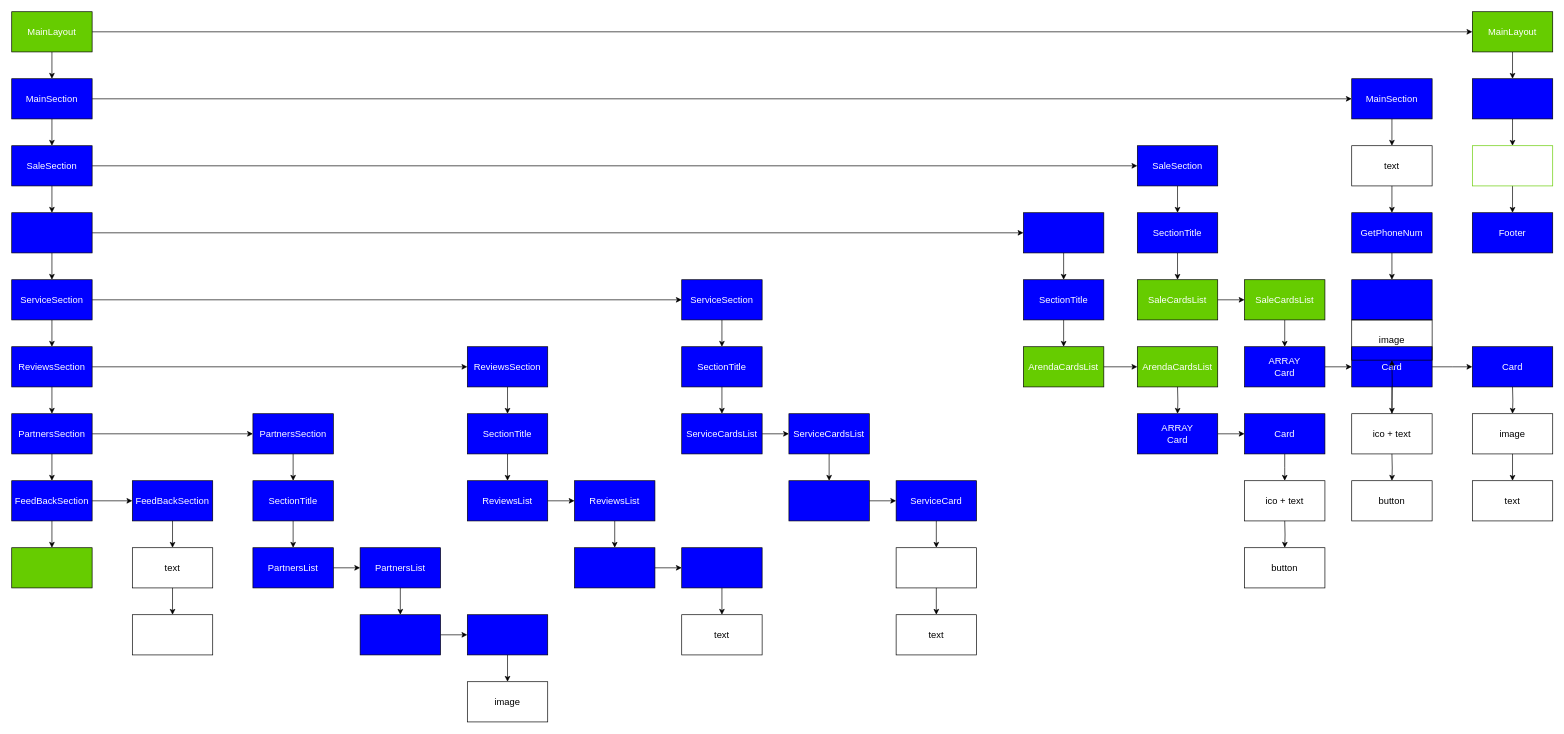
The diagram is 1564 pixels wide and 734 high, and some of its shapes have lost their labels. The centre of each missing label's shape, as x and y in pixels:
AnimateArrowDown: pixel 1391 299
ArendaSection: pixel 51 232
ArendSection: pixel 1063 232
ARRAY Partner: pixel 400 634
ARRAY Review: pixel 614 567
ARRAY ServiceCard: pixel 828 500
buttons: pixel 172 634
children: pixel 1512 165
Header: pixel 1512 98
ico: pixel 936 567
MainLayout /: pixel 51 567
Partner: pixel 507 634
Review: pixel 721 567
